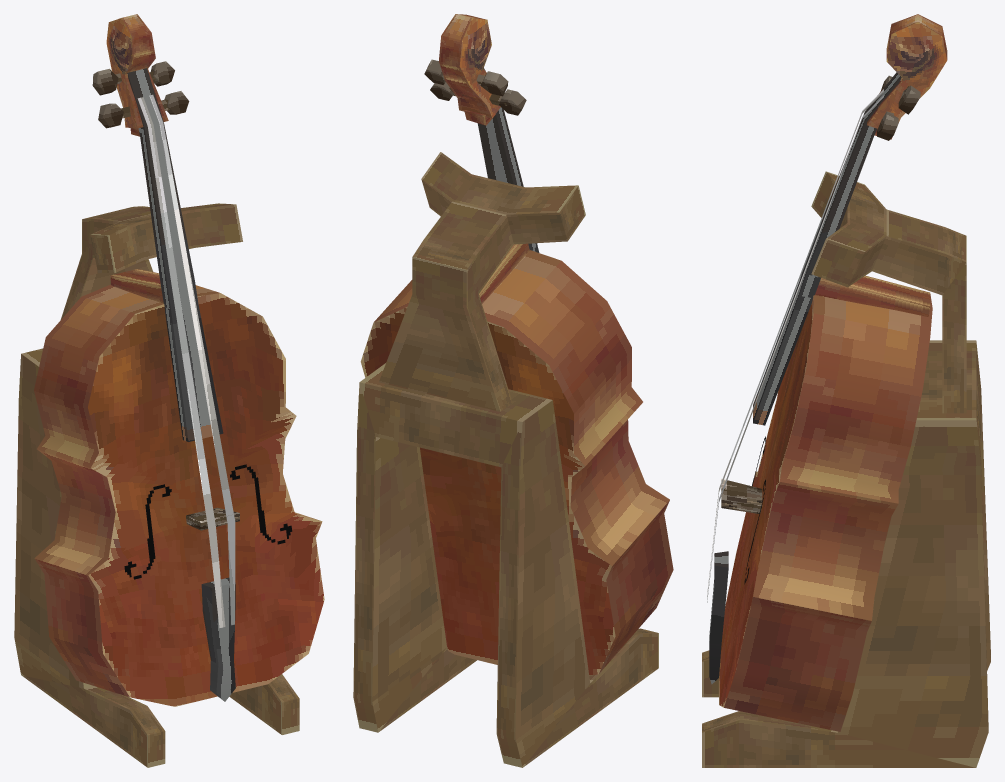
File: o_basu1.glb
3 renders of one model, left to right at view 1: azimuth 30°, elevation 25°; view 2: azimuth 150°, elevation 25°; view 3: azimuth 270°, elevation 25°, orthographic. The views are drawn at different scales.
Visible parts, largest first — view 1: o_basu1; view 2: o_basu1; view 3: o_basu1.
Boxes of the visible parts, x1,y1,x2,y2 form: o_basu1: (14, 14, 324, 767); o_basu1: (353, 14, 673, 767); o_basu1: (702, 14, 990, 767).
Size of the model in its own units: 120 by 324 by 119.
Materials: 8 (8 with a texture image).
